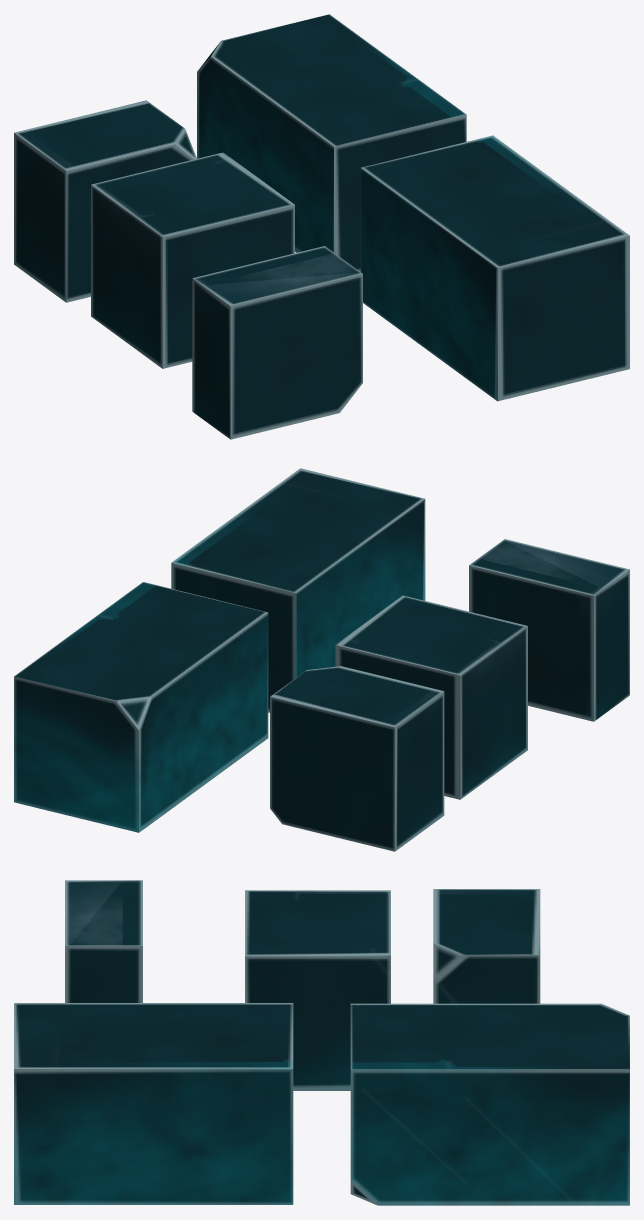
The model's file is tijolos 3.fbx.
The picture shows the model from 3 angles, top to bottom: view 1: azimuth 30°, elevation 25°; view 2: azimuth 150°, elevation 25°; view 3: azimuth 270°, elevation 25°; orthographic projection. The views are drawn at different scales.
Parts seen in each view (by area): view 1: tijolos.006, tijolos.007, tijolos.004, tijolos.005, tijolos.003; view 2: tijolos.007, tijolos.006, tijolos.003, tijolos.004, tijolos.005; view 3: tijolos.006, tijolos.007, tijolos.004, tijolos.003, tijolos.005.
Part boxes in pixels (x1=…): tijolos.006: x1=360, y1=135, x2=629, y2=401; tijolos.007: x1=197, y1=14, x2=466, y2=271; tijolos.004: x1=91, y1=152, x2=294, y2=368; tijolos.005: x1=192, y1=246, x2=362, y2=439; tijolos.003: x1=14, y1=100, x2=196, y2=302; tijolos.007: x1=14, y1=582, x2=268, y2=832; tijolos.006: x1=171, y1=468, x2=425, y2=712; tijolos.003: x1=270, y1=666, x2=444, y2=851; tijolos.004: x1=335, y1=595, x2=527, y2=799; tijolos.005: x1=469, y1=539, x2=629, y2=721; tijolos.006: x1=14, y1=1003, x2=293, y2=1204; tijolos.007: x1=350, y1=1003, x2=629, y2=1205; tijolos.004: x1=245, y1=890, x2=390, y2=1090; tijolos.003: x1=433, y1=889, x2=540, y2=1003; tijolos.005: x1=65, y1=880, x2=142, y2=1002.
Size of the model in its own units: 103 by 35.6 by 143.
1 material, 1 textured.
